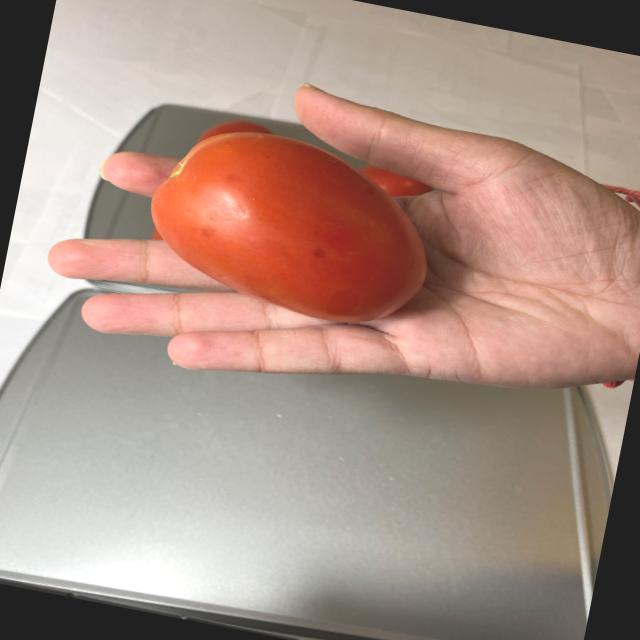tomato: (130, 110, 448, 334)
